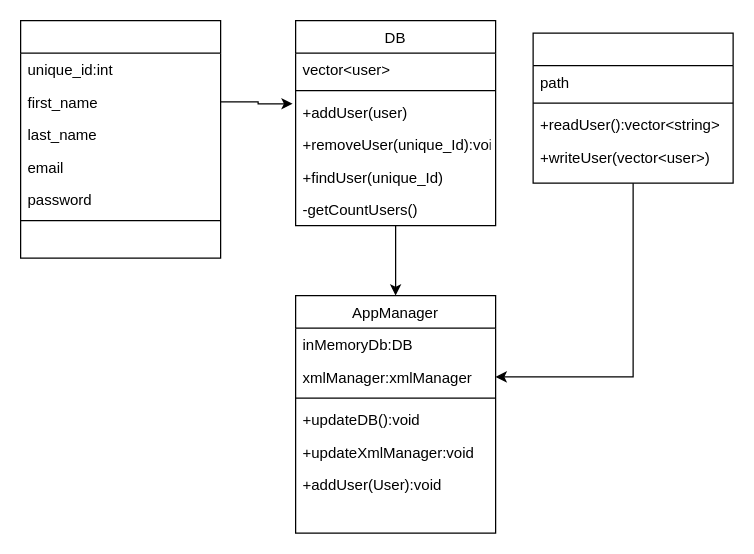
The diagram is 754 pixels wide and 554 high, and some of its shapes have lost their labels. The box of each missing label's shape, as (x1, y1, x2, y2) in pixels:
User: (19, 19, 221, 258)
XmlManager: (532, 32, 733, 183)
